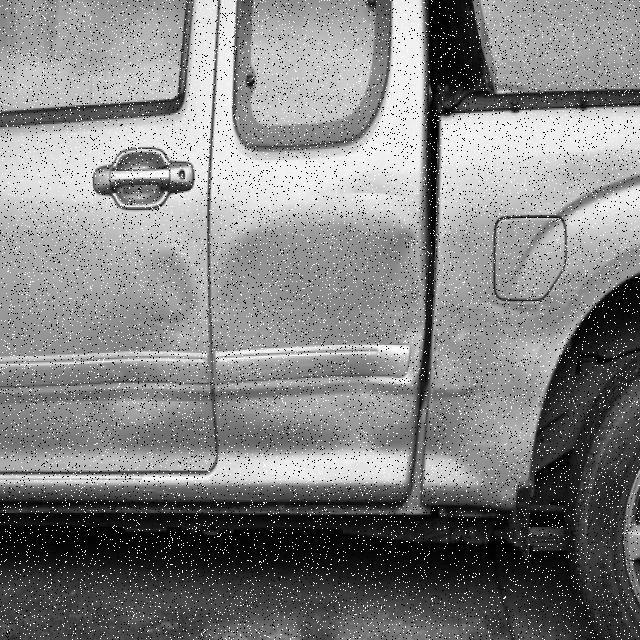doorouter-dent: (3, 102, 217, 483), (214, 127, 426, 489)
quaterpanel-dent: (427, 111, 623, 501)
